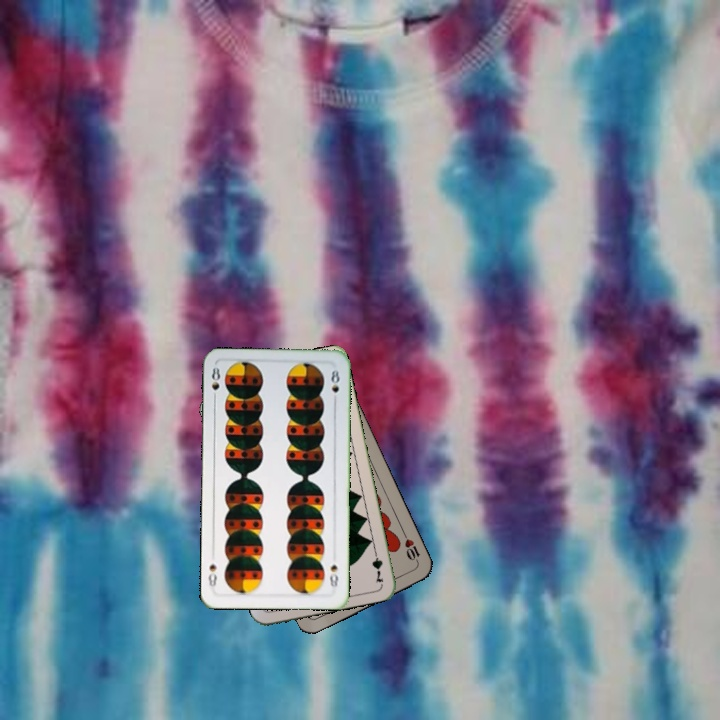G7: (368, 544, 386, 585)
H10: (399, 529, 423, 568)
S8: (207, 363, 223, 404), (325, 560, 341, 590)
